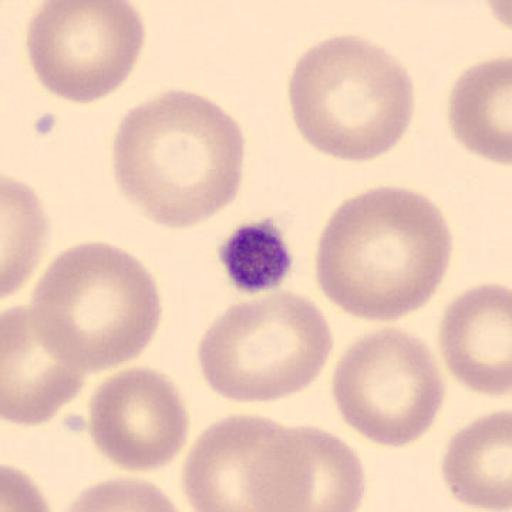Platelet: (216, 216, 296, 295)
RBC: (314, 184, 452, 322), (113, 87, 244, 230), (30, 240, 163, 374), (287, 33, 416, 164), (194, 287, 336, 406), (330, 324, 447, 448), (179, 410, 316, 512), (24, 0, 147, 106), (88, 364, 192, 474), (2, 304, 90, 428), (262, 421, 367, 512), (438, 280, 512, 398), (441, 408, 512, 512), (448, 56, 512, 166), (2, 173, 52, 301), (53, 475, 193, 512), (0, 462, 54, 512), (483, 0, 512, 29)
